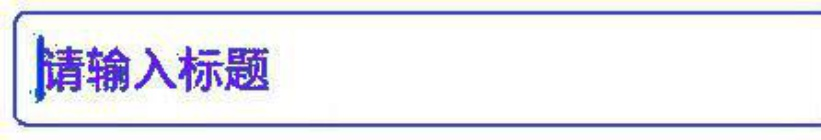EditText: (1, 1, 820, 139)
